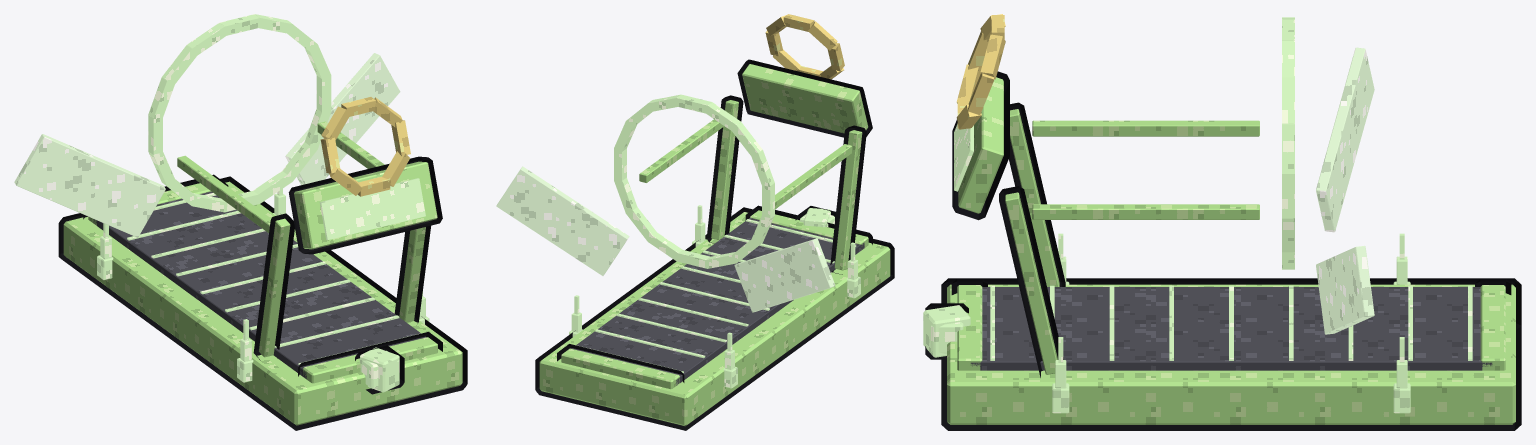
File: treadmill_16.glb
The picture shows the model from 3 angles, left to right: view 1: azimuth 30°, elevation 25°; view 2: azimuth 150°, elevation 25°; view 3: azimuth 270°, elevation 25°; orthographic projection. The views are drawn at different scales.
Parts seen in each view (by area): view 1: model; view 2: model; view 3: model.
Boxes of the visible parts, left/top/right/bottom form: model: left=14, top=14, right=467, bottom=430; model: left=496, top=14, right=894, bottom=430; model: left=923, top=14, right=1521, bottom=430.
Bounding box in the file's own units: 2.74 × 2 × 3.03.
6 materials, 5 textured.
